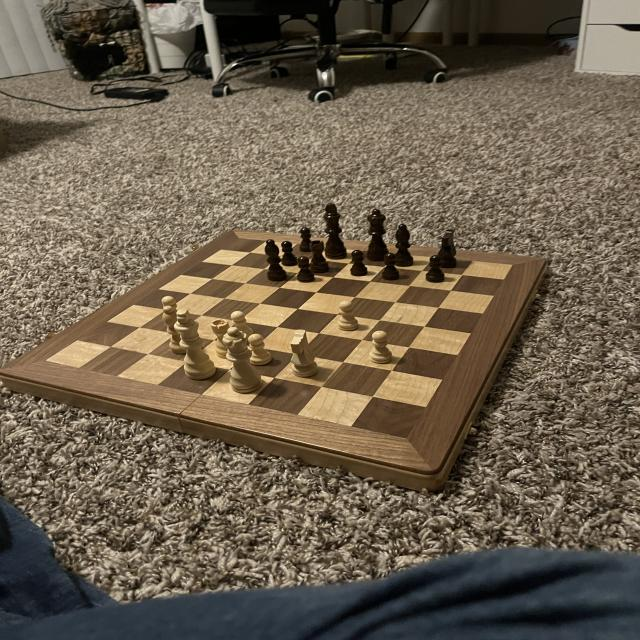bishop: (263, 238, 288, 284), (391, 221, 415, 268)
black-bishop: (321, 202, 349, 259)
black-king: (433, 229, 464, 269)
black-knight: (424, 254, 448, 284), (348, 248, 368, 278), (382, 252, 401, 282), (280, 238, 298, 266), (296, 255, 314, 283), (297, 226, 313, 250)
black-pawn: (363, 208, 393, 263)
black-queen: (308, 238, 330, 274)
black-rook: (160, 305, 194, 355)
white-bishop: (174, 308, 220, 384)
white-king: (286, 330, 320, 378)
white-knight: (248, 332, 274, 367), (368, 330, 394, 364), (160, 295, 187, 325), (230, 311, 256, 341), (336, 300, 358, 331)
white-pawn: (221, 326, 266, 396)
white-queen: (210, 317, 238, 358)
